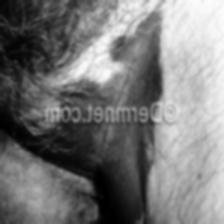Toxin: (108, 134, 154, 212), (122, 26, 166, 102), (72, 78, 116, 102), (66, 130, 114, 148)
